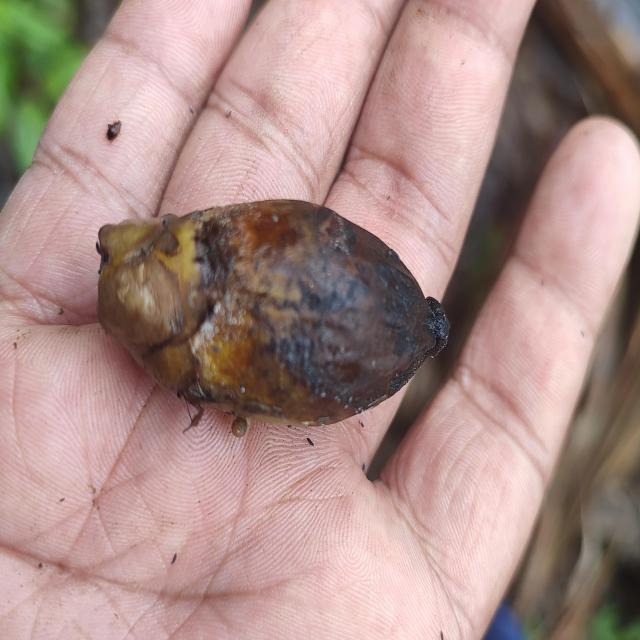damaged: (95, 199, 451, 430)
